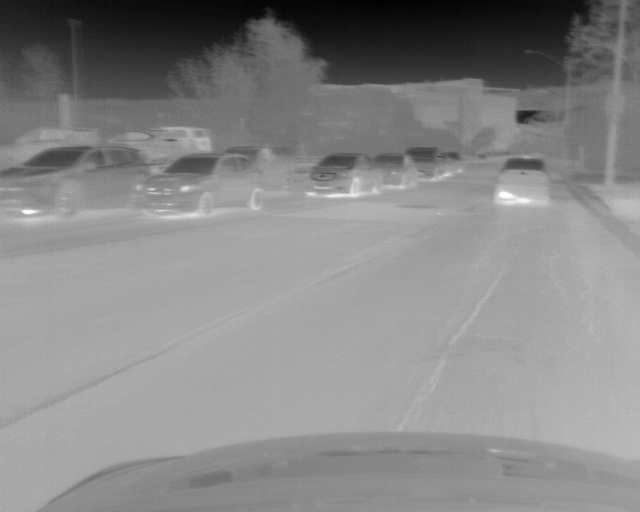car: (1, 148, 148, 220), (135, 153, 269, 220), (1, 127, 99, 166), (303, 154, 381, 200), (223, 147, 293, 188), (493, 156, 549, 207), (104, 129, 182, 162), (376, 151, 419, 188), (161, 125, 210, 153), (411, 147, 446, 181), (446, 149, 466, 179)
